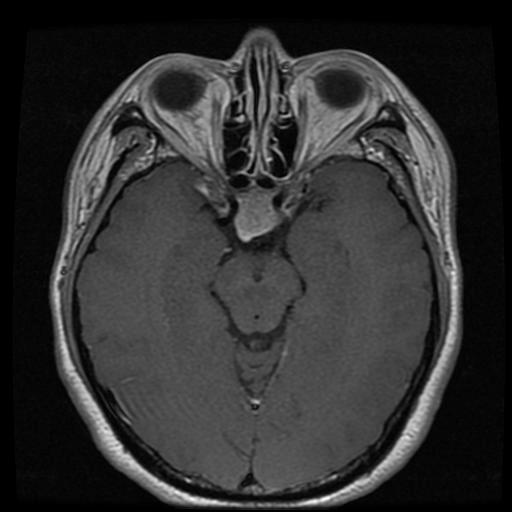Tumour-Pituitary: (211, 178, 313, 248)
